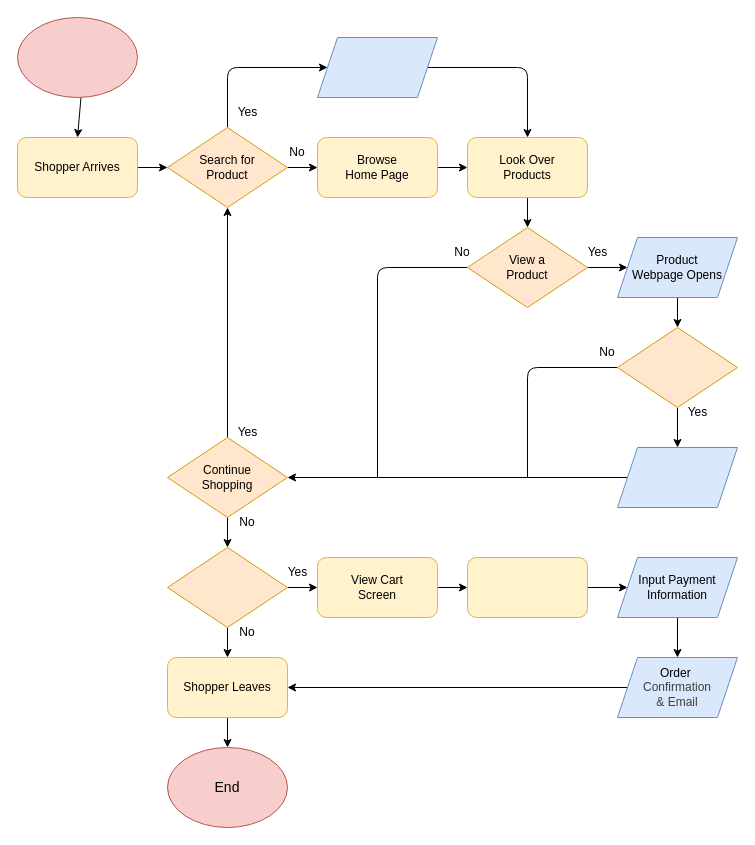
Image size: 755x845. Some labels were removed from this diagram. Here are the shapes that lost their labels. From the top down, the centre of each, then its label:
point 77,57: Start
point 377,67: Input Search
point 677,367: Add Product to Cart
point 677,477: Added to Cart Confirmation
point 227,587: Check Out
point 527,587: View Payment Screen
